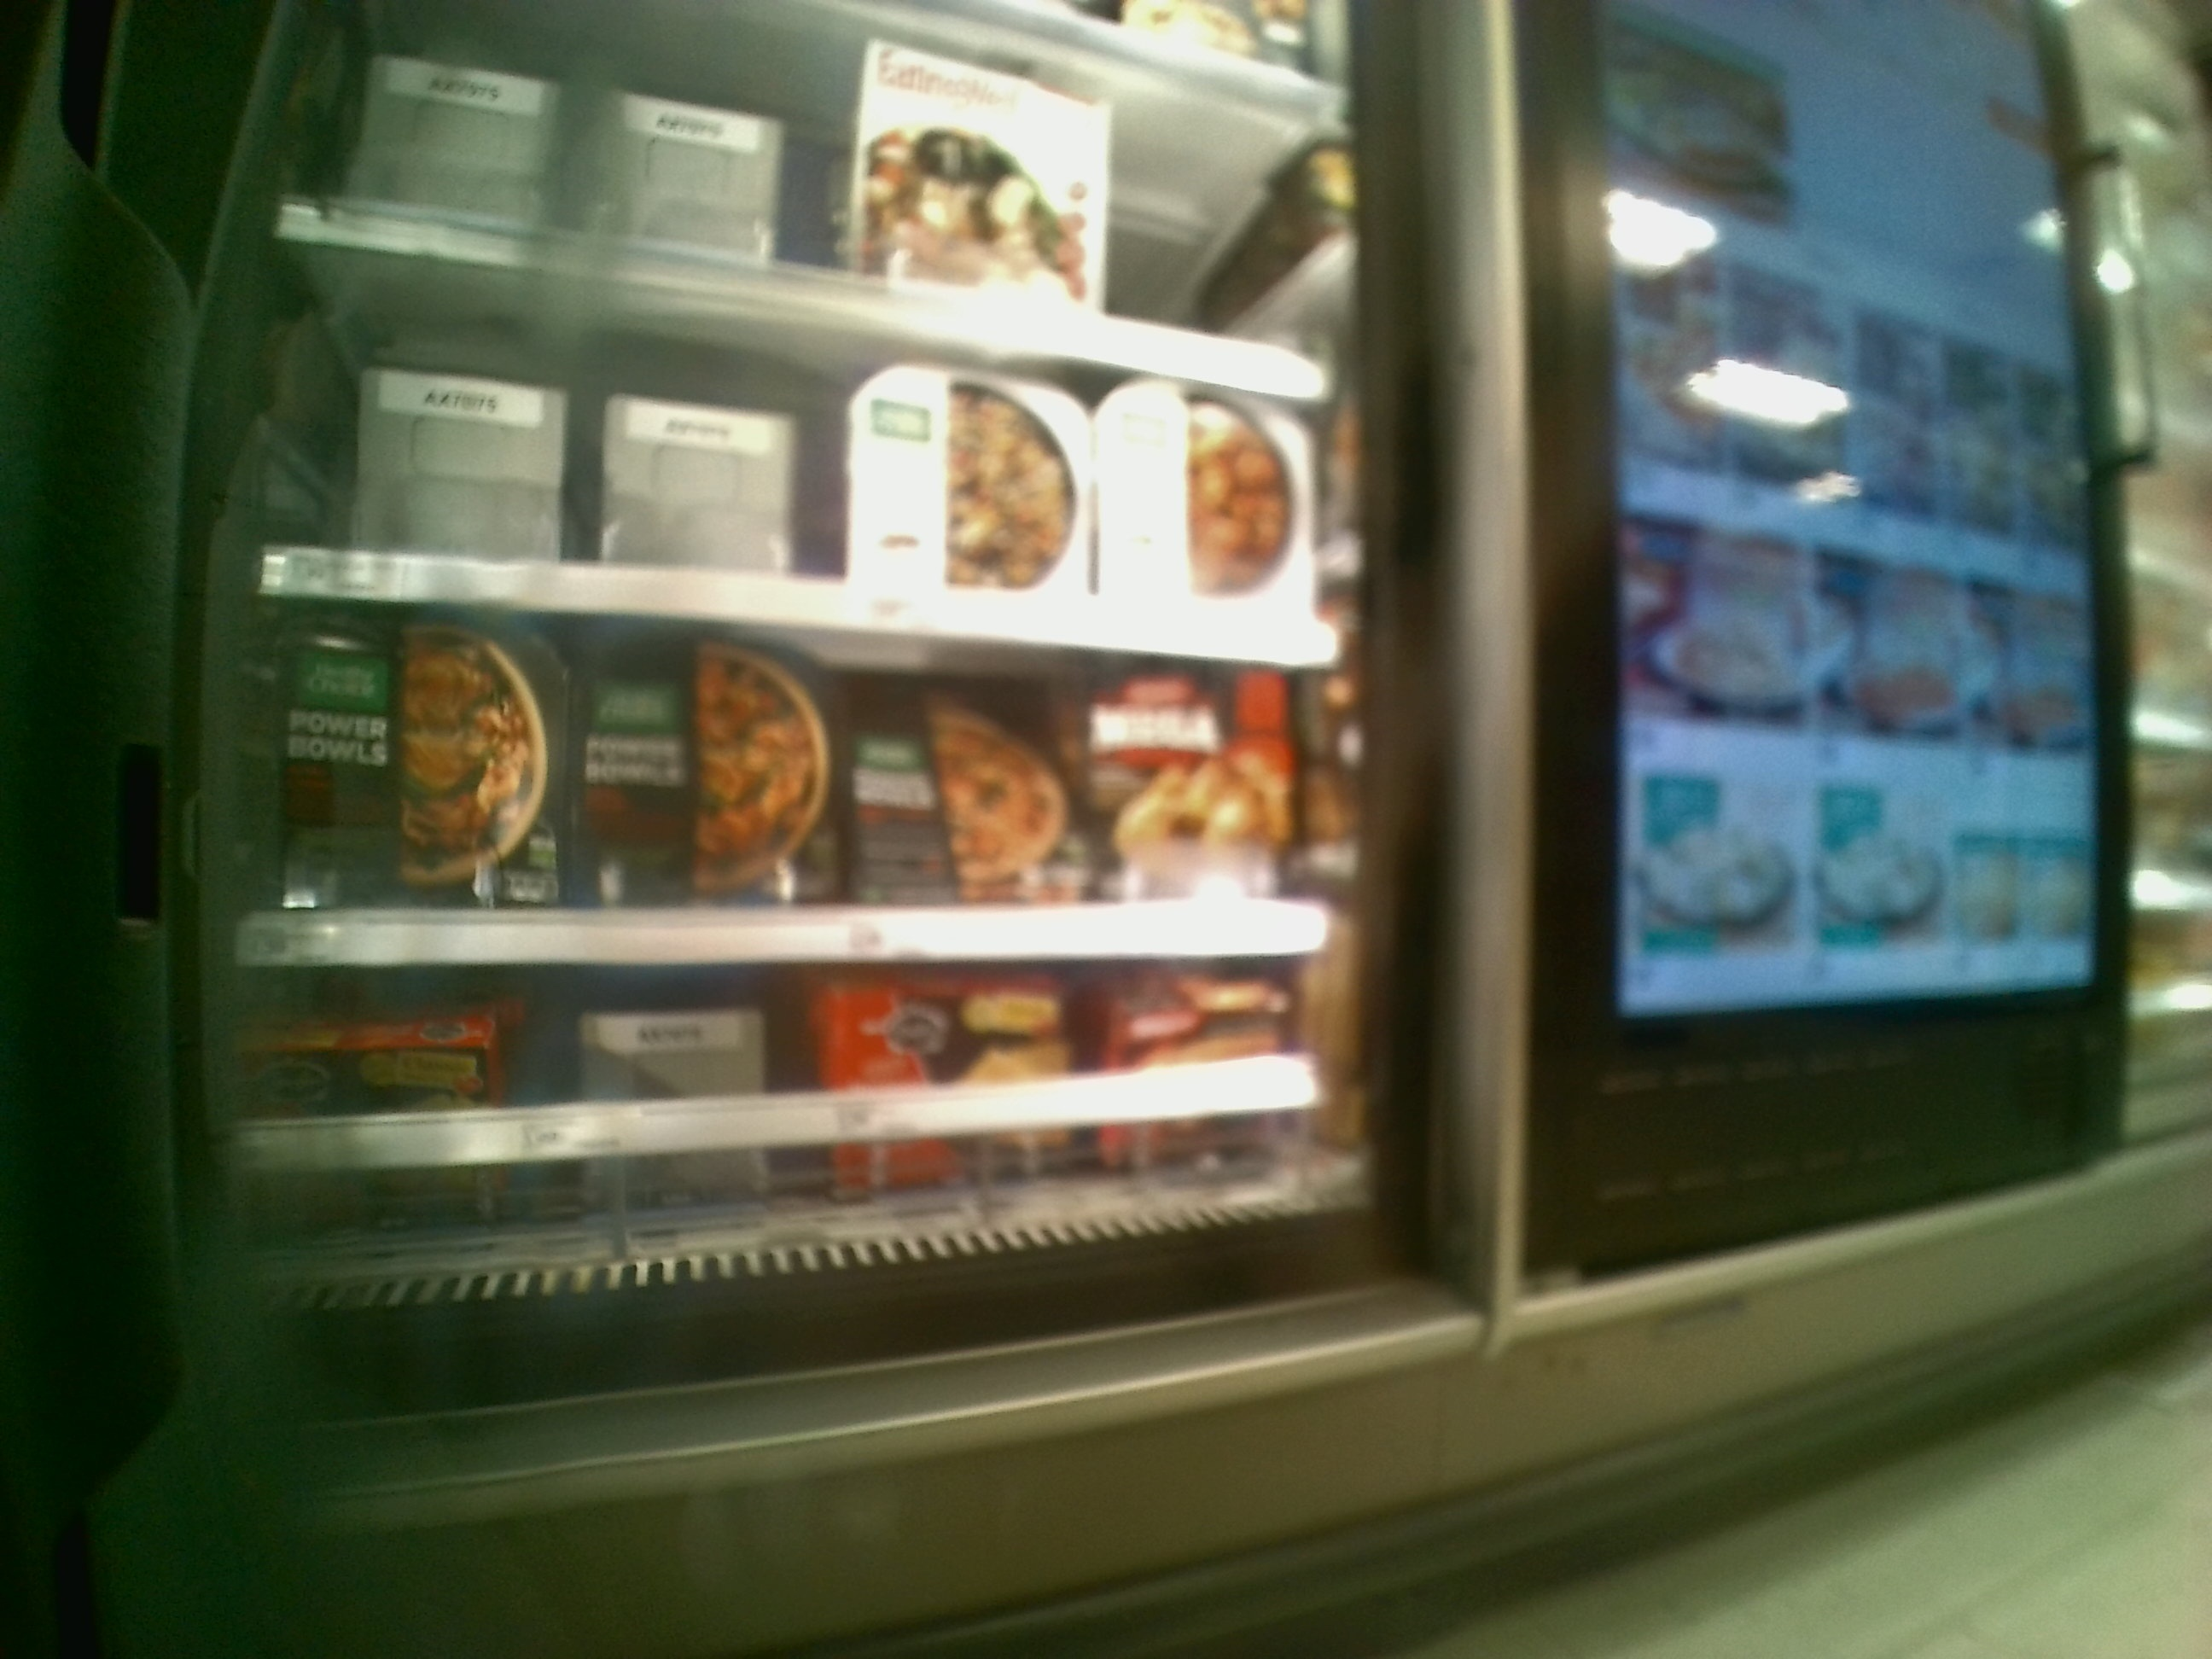shelf: (228, 596, 1362, 964), (230, 964, 1385, 1288)
